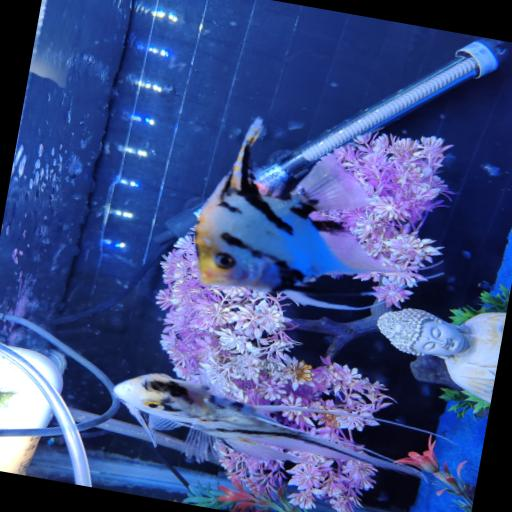Fish: (195, 118, 388, 309), (114, 374, 421, 476)
